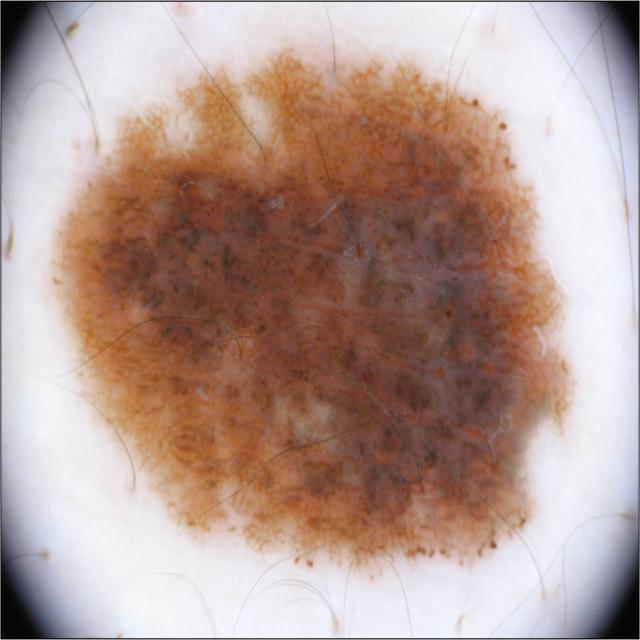Benign: (40, 43, 579, 574)
